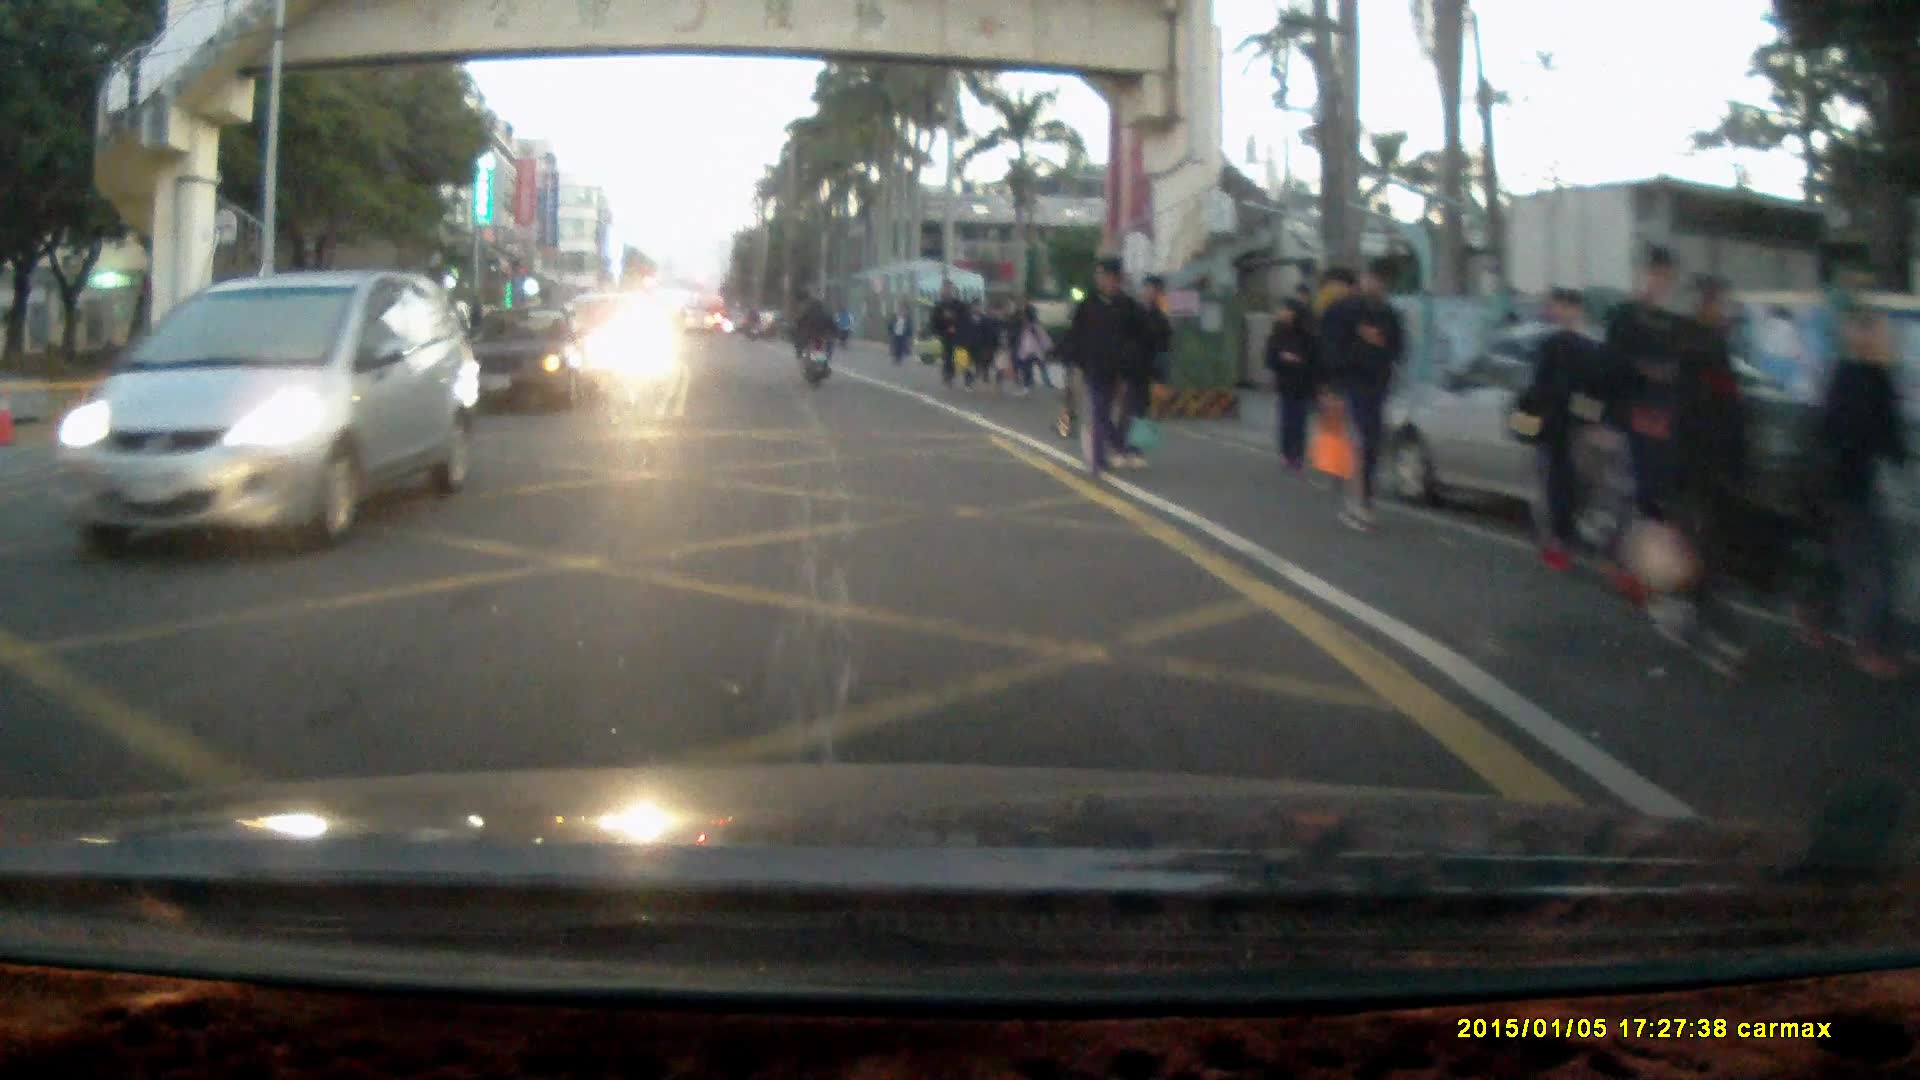pedestrian: (1800, 304, 1908, 685), (1594, 244, 1698, 617), (1674, 268, 1764, 680), (1529, 287, 1629, 577), (1329, 255, 1408, 534), (1065, 254, 1145, 478), (1319, 270, 1383, 498), (1117, 274, 1178, 464), (1264, 298, 1317, 483), (1004, 282, 1053, 399), (928, 275, 964, 387), (960, 292, 994, 389), (885, 297, 912, 365)
rider: (793, 293, 837, 390)
vehicle: (55, 268, 477, 551), (1385, 316, 1820, 570), (455, 303, 609, 411)
